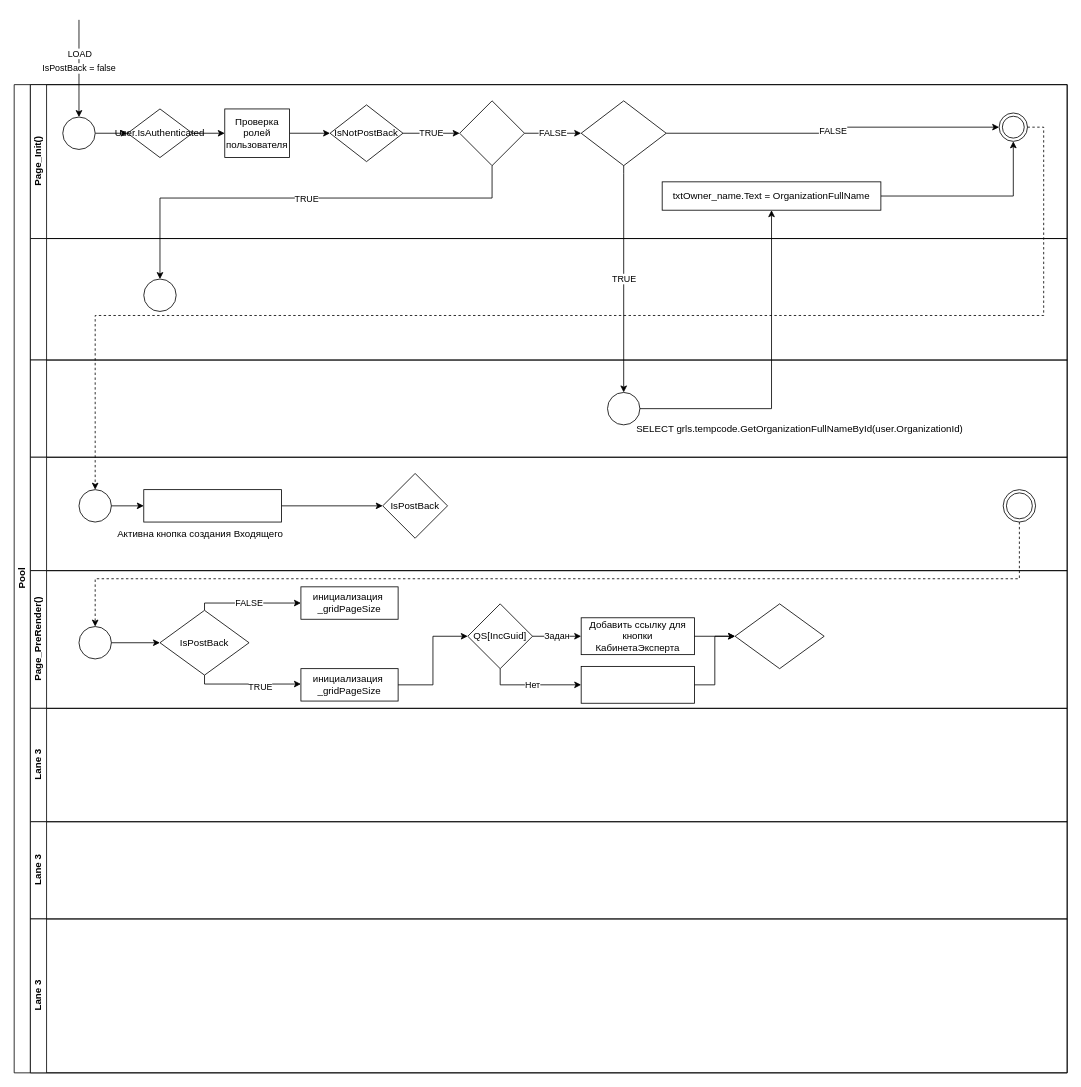
The diagram is 1081 pixels wide and 1087 high, and some of its shapes have lost their labels. Each missing label, with the box of its shape:
bAddInc.Visible = userIsCreator || userIsAdmin;: (143, 489, 281, 522)
DB: (30, 359, 1067, 457)
InitBeginDate(): (30, 238, 1067, 360)
Page_Load(): (30, 456, 1067, 571)
ShowAll: (734, 603, 824, 669)
user can StatementCreate CIStatementCreate: (580, 100, 666, 166)
Не задан QS["RegDateBeg"]: (459, 100, 524, 166)
Убрать кнопку КабинетЭксперта: (580, 666, 695, 703)
